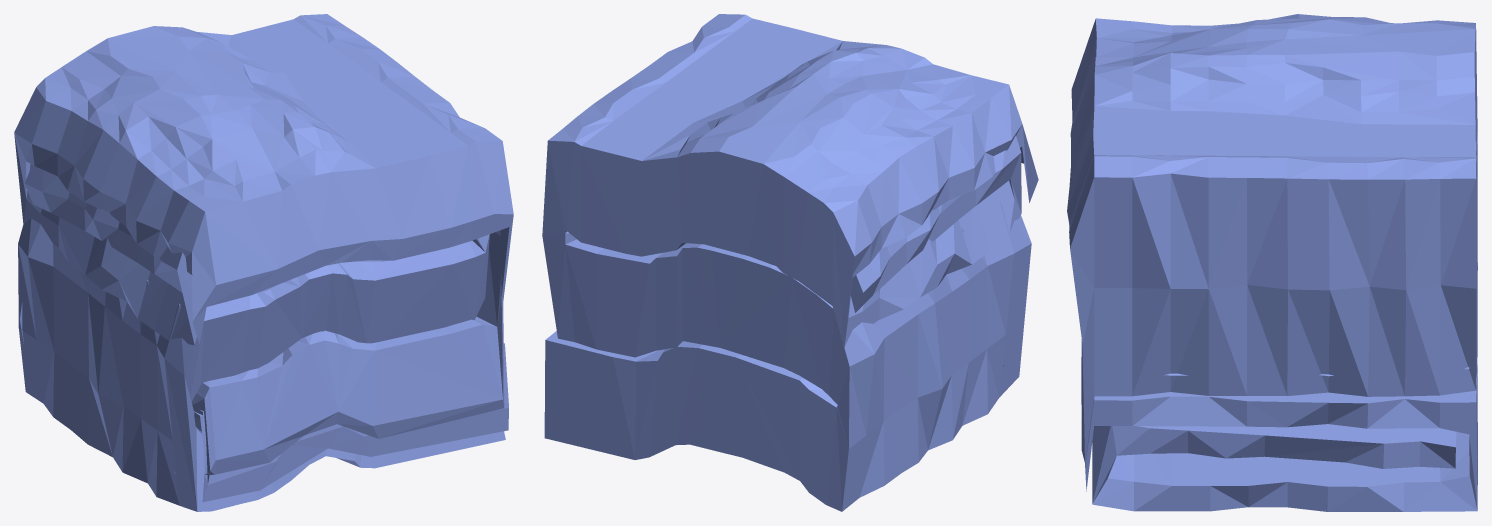
The model's file is sh-scopia-com-bath3-toalla.glb.
The picture shows the model from 3 angles, left to right: view 1: azimuth 30°, elevation 25°; view 2: azimuth 150°, elevation 25°; view 3: azimuth 270°, elevation 25°; orthographic projection. The views are drawn at different scales.
Parts seen in each view (by area): view 1: 1_1; view 2: 1_1; view 3: 1_1.
Part boxes in pixels (<box>): 1_1: <box>14,14,513,511</box>; 1_1: <box>542,14,1038,511</box>; 1_1: <box>1067,14,1477,511</box>.
Size of the model in its own units: 1 by 1 by 0.995.
